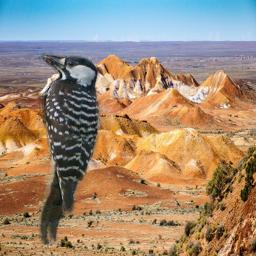Woodpecker: (36, 50, 104, 245)
